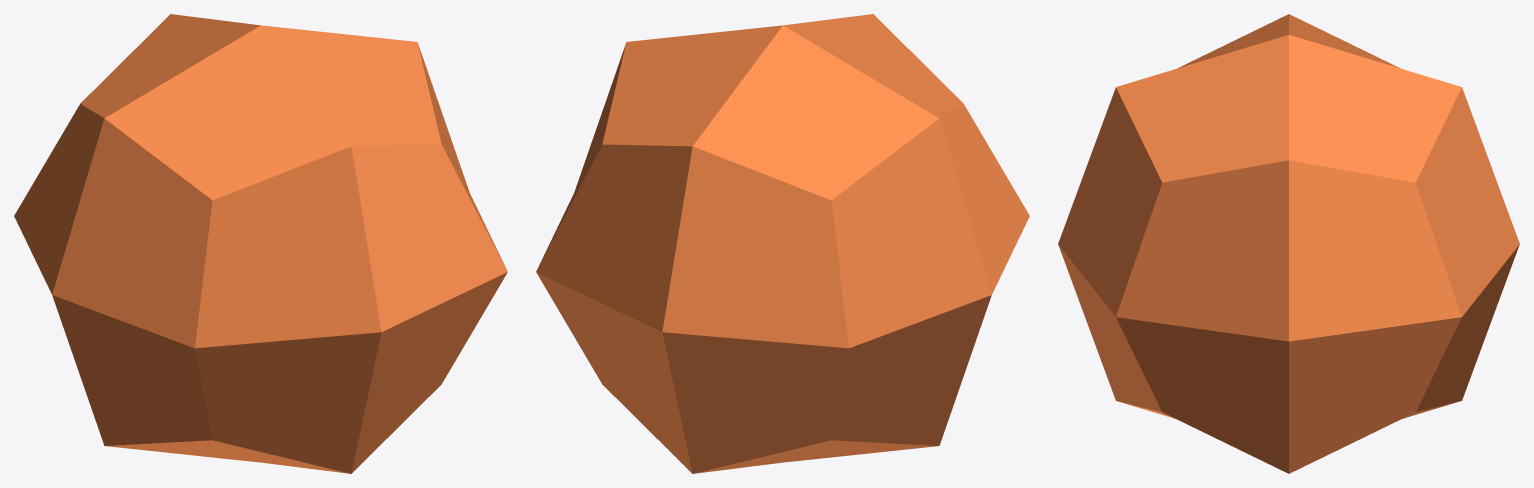
The model's file is bullet.obj.
The picture shows the model from 3 angles, left to right: view 1: azimuth 30°, elevation 25°; view 2: azimuth 150°, elevation 25°; view 3: azimuth 270°, elevation 25°; orthographic projection. The views are drawn at different scales.
Visible parts, largest first — view 1: bullet.obj; view 2: bullet.obj; view 3: bullet.obj.
Part boxes in pixels (x1,y1,x2,y2): bullet.obj: (14, 14, 507, 473); bullet.obj: (536, 14, 1029, 473); bullet.obj: (1058, 14, 1519, 473).
Bounding box in the file's own units: 0.1013 × 0.1013 × 0.1013.
